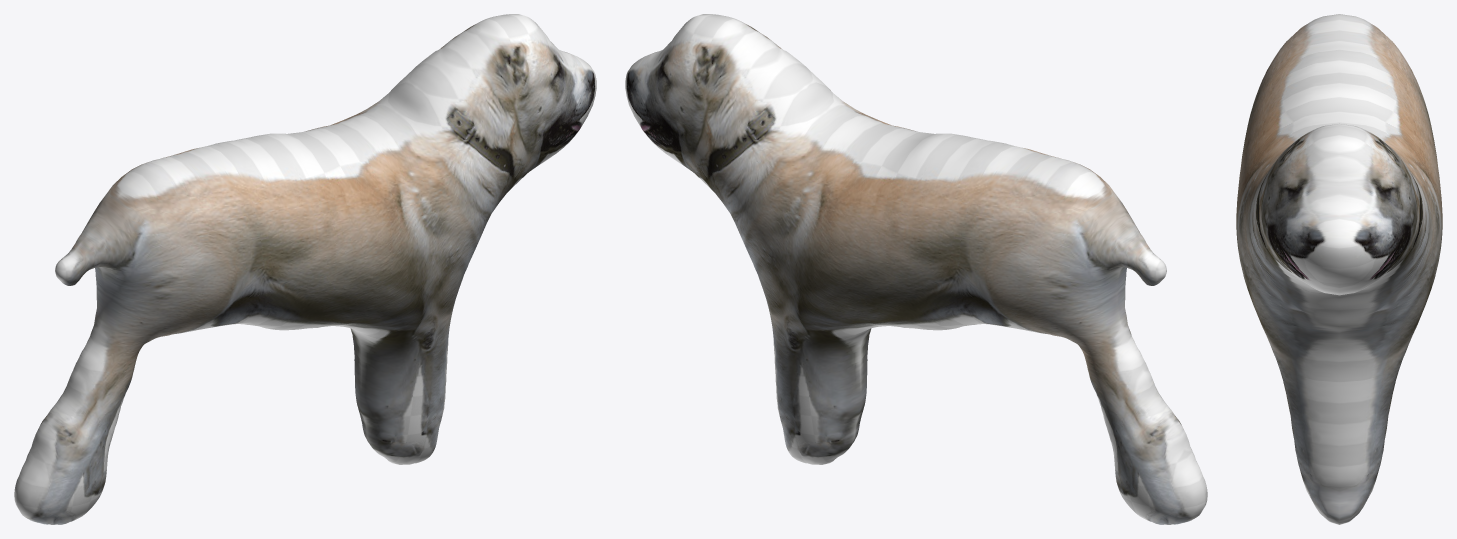
The model's file is dog1.glb.
3 views of the same model, side by side, from view 1: azimuth 30°, elevation 25°; view 2: azimuth 150°, elevation 25°; view 3: azimuth 270°, elevation 25° (orthographic). The views are drawn at different scales.
Bounding box in the file's own units: 6.52 × 4.53 × 1.93.
Materials: 1 (1 with a texture image).
